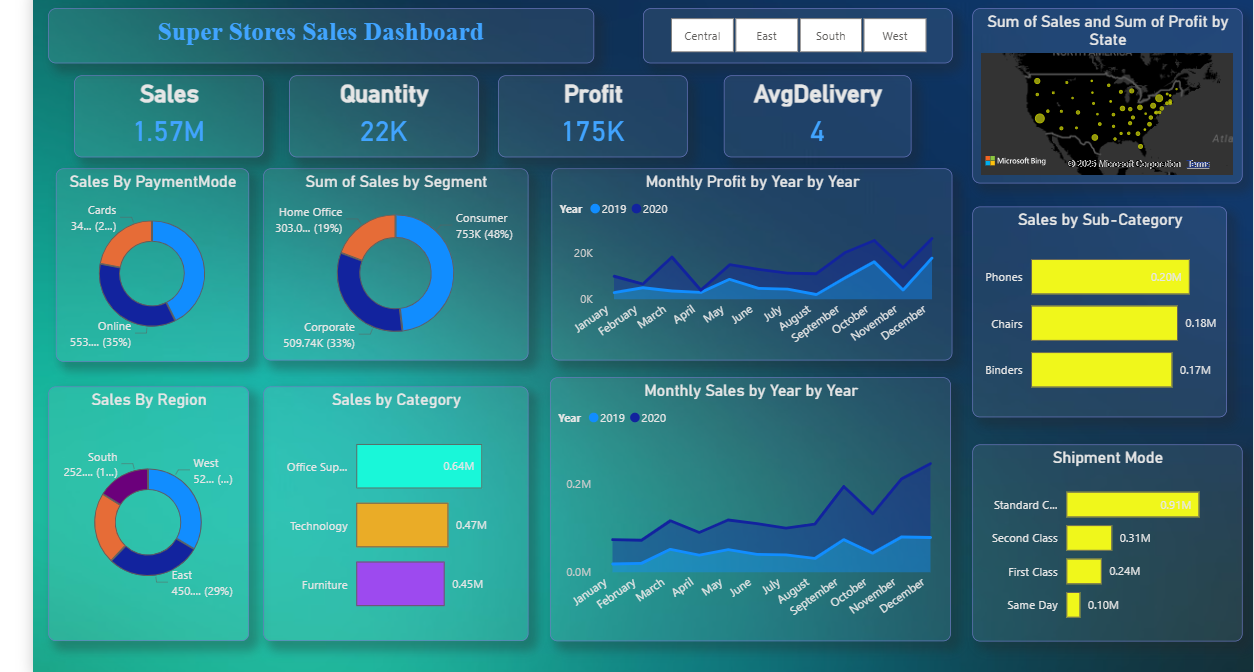

The dashboard page shown, as its layout file describes it:
{"tool":"powerbi","page":{"name":"Page 1","canvas":[1280,720],"ordinal":0},"visuals":[{"type":"clusteredBarChart","title":" Sales by Category","fields":{"Category":["SuperStore_Sales_Dataset.Category"],"Y":["Sum(SuperStore_Sales_Dataset.Sales)"]},"box":[241.5,415.8,278.2,267.1],"z":0},{"type":"clusteredBarChart","title":"Sales  by Sub-Category","fields":{"Category":["SuperStore_Sales_Dataset.Sub-Category"],"Y":["Sum(SuperStore_Sales_Dataset.Sales)"]},"box":[985.1,227.1,267.1,220.7],"z":1000},{"type":"clusteredBarChart","title":"Shipment Mode","fields":{"Category":["SuperStore_Sales_Dataset.Ship Mode"],"Y":["Sum(SuperStore_Sales_Dataset.Sales)"]},"box":[985.1,476.5,283,206.3],"z":2000},{"type":"stackedAreaChart","title":"Monthly Sales by Year by Year","fields":{"Y":["Sum(SuperStore_Sales_Dataset.Sales)"],"Category":["SuperStore_Sales_Dataset.Order Date.Variation.Date Hierarchy.Month","SuperStore_Sales_Dataset.Order Date.Variation.Date Hierarchy.Day"],"Series":["SuperStore_Sales_Dataset.Order Date.Variation.Date Hierarchy.Year"]},"box":[542.1,406.2,420.6,276.6],"z":3000},{"type":"stackedAreaChart","title":"Monthly Profit by Year by Year","fields":{"Category":["SuperStore_Sales_Dataset.Order Date.Variation.Date Hierarchy.Month","SuperStore_Sales_Dataset.Order Date.Variation.Date Hierarchy.Day"],"Series":["SuperStore_Sales_Dataset.Order Date.Variation.Date Hierarchy.Year"],"Y":["Sum(SuperStore_Sales_Dataset.Profit)"]},"box":[543.7,187.1,420.6,201.5],"z":4000},{"type":"map","fields":{"Category":["SuperStore_Sales_Dataset.State"],"Size":["Sum(SuperStore_Sales_Dataset.Sales)"]},"box":[985.1,19.2,283,183.9],"z":5000},{"type":"donutChart","fields":{"Category":["SuperStore_Sales_Dataset.Segment"],"Y":["Sum(SuperStore_Sales_Dataset.Sales)"]},"box":[241.5,187.1,278.2,201.5],"z":6000},{"type":"donutChart","title":" Sales By Region","fields":{"Category":["SuperStore_Sales_Dataset.Region"],"Y":["Sum(SuperStore_Sales_Dataset.Sales)"]},"box":[15.6,416.5,210.2,266.6],"z":7000},{"type":"slicer","fields":{"Values":["SuperStore_Sales_Dataset.Region"]},"box":[639.6,19.2,324.6,57.6],"z":8000},{"type":"textbox","box":[16,19.2,572.5,57.6],"z":9000},{"type":"card","title":"AvgDelivery","fields":{"Values":["Avg(SuperStore_Sales_Dataset.AvgDelivery)"]},"box":[724,89.5,196.6,85.6],"z":10000},{"type":"card","title":"Profit","fields":{"Values":["Sum(SuperStore_Sales_Dataset.Profit)"]},"box":[488.5,89.5,198.5,85.6],"z":11000},{"type":"card","title":"Quantity","fields":{"Values":["Sum(SuperStore_Sales_Dataset.Quantity)"]},"box":[268.6,89.5,198.5,85.6],"z":12000},{"type":"card","title":"Sales","fields":{"Values":["Sum(SuperStore_Sales_Dataset.Sales)"]},"box":[42.8,89.5,198.5,85.6],"z":13000},{"type":"donutChart","title":"Sales By PaymentMode","fields":{"Category":["SuperStore_Sales_Dataset.Payment Mode"],"Y":["Sum(SuperStore_Sales_Dataset.Sales)"]},"box":[23.4,186.8,202.4,202.4],"z":13001}]}

Visuals, with their boxes on the page's 1280x720 design canvas (x1, y1, x2, y2). These are canvas units, not pixel positions in the 1254x672 screenshot, which may show the page scaled, cropped or inside an application window:
" Sales by Category" clusteredBarChart: bbox=[242, 416, 520, 683]
"Sales  by Sub-Category" clusteredBarChart: bbox=[985, 227, 1252, 448]
"Shipment Mode" clusteredBarChart: bbox=[985, 476, 1268, 683]
"Monthly Sales by Year by Year" stackedAreaChart: bbox=[542, 406, 963, 683]
"Monthly Profit by Year by Year" stackedAreaChart: bbox=[544, 187, 964, 389]
map - SuperStore_Sales_Dataset.State x Sum(SuperStore_Sales_Dataset.Sales): bbox=[985, 19, 1268, 203]
donutChart - SuperStore_Sales_Dataset.Segment x Sum(SuperStore_Sales_Dataset.Sales): bbox=[242, 187, 520, 389]
" Sales By Region" donutChart: bbox=[16, 416, 226, 683]
slicer - SuperStore_Sales_Dataset.Region: bbox=[640, 19, 964, 77]
textbox: bbox=[16, 19, 588, 77]
"AvgDelivery" card: bbox=[724, 90, 921, 175]
"Profit" card: bbox=[488, 90, 687, 175]
"Quantity" card: bbox=[269, 90, 467, 175]
"Sales" card: bbox=[43, 90, 241, 175]
"Sales By PaymentMode" donutChart: bbox=[23, 187, 226, 389]
